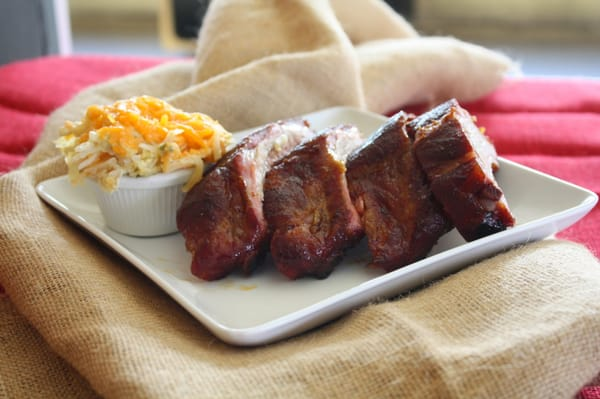curry: (0, 8, 586, 393)
